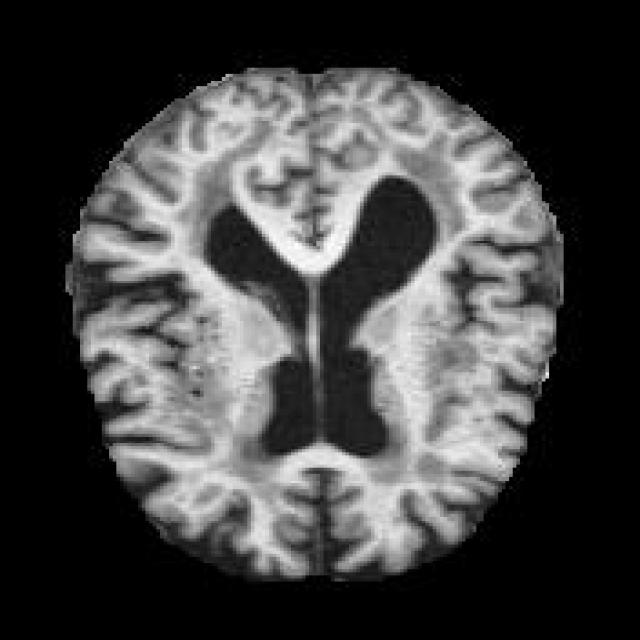Alzheimer: (65, 61, 568, 582)
